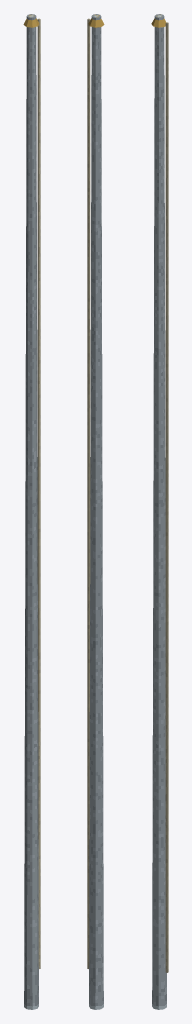
The model's file is f_flagpole.glb.
3 views of the same model, side by side, from view 1: azimuth 30°, elevation 25°; view 2: azimuth 150°, elevation 25°; view 3: azimuth 330°, elevation 25° (orthographic).
Parts seen in each view (by area): view 1: block_pole, block_halyard; view 2: block_pole, block_halyard; view 3: block_pole, block_halyard.
Boxes of the visible parts, bbox=[...] form: block_pole: bbox=[24, 14, 38, 1009]; block_halyard: bbox=[37, 18, 40, 968]; block_pole: bbox=[89, 14, 103, 1009]; block_halyard: bbox=[87, 18, 90, 968]; block_pole: bbox=[152, 14, 166, 1009]; block_halyard: bbox=[165, 22, 168, 972].
Size of the model in its own units: 0.0956 by 6 by 0.0831.
1 material, 1 textured.
